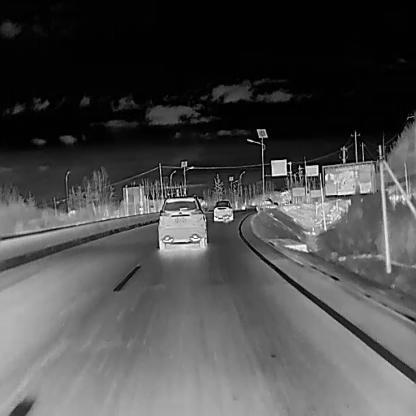car: (157, 196, 206, 250), (212, 199, 233, 223), (254, 198, 277, 210)
